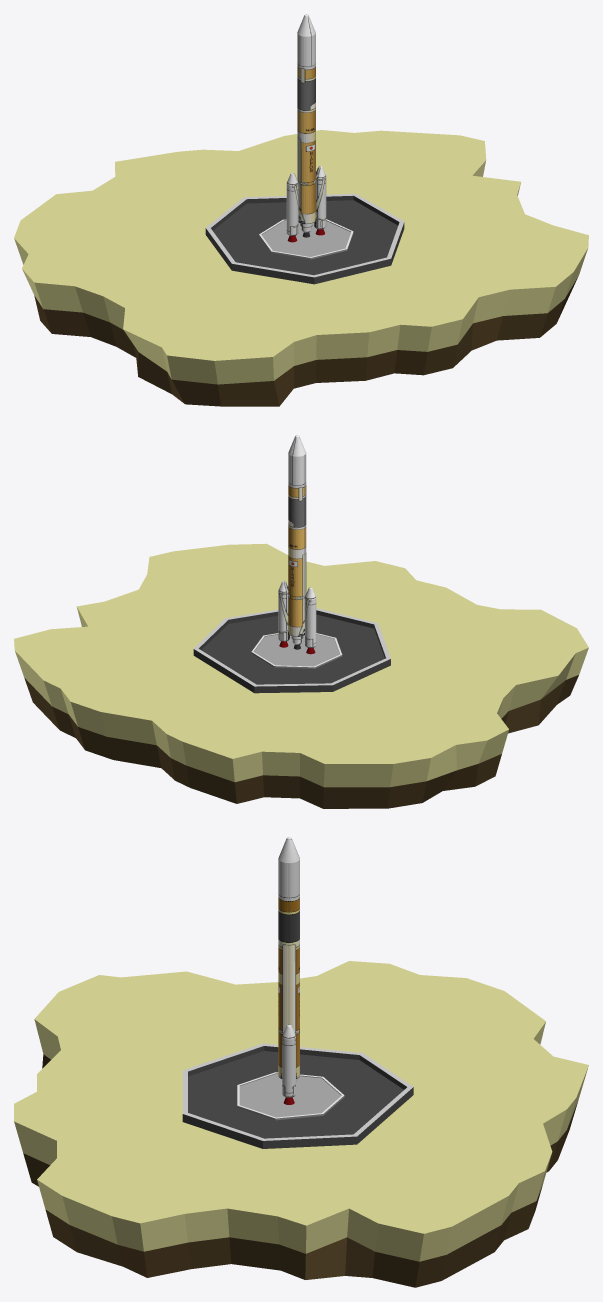
Rendered from H-IIA_2.gltf.
3 views of the same model, one above another, from view 1: azimuth 30°, elevation 25°; view 2: azimuth 150°, elevation 25°; view 3: azimuth 270°, elevation 25° (orthographic). The views are drawn at different scales.
Visible parts, largest first — view 1: Cylinder.001, Cylinder.002; view 2: Cylinder.001, Cylinder.002; view 3: Cylinder.001, Cylinder.002.
Boxes of the visible parts, left/top/right/bottom form: Cylinder.001: left=14, top=130, right=588, bottom=406; Cylinder.002: left=286, top=14, right=326, bottom=235; Cylinder.001: left=14, top=543, right=588, bottom=808; Cylinder.002: left=278, top=435, right=316, bottom=647; Cylinder.001: left=14, top=961, right=588, bottom=1287; Cylinder.002: left=278, top=837, right=299, bottom=1097.
Size of the model in its own units: 8.06 by 4.48 by 7.18.
11 materials, 1 textured.
